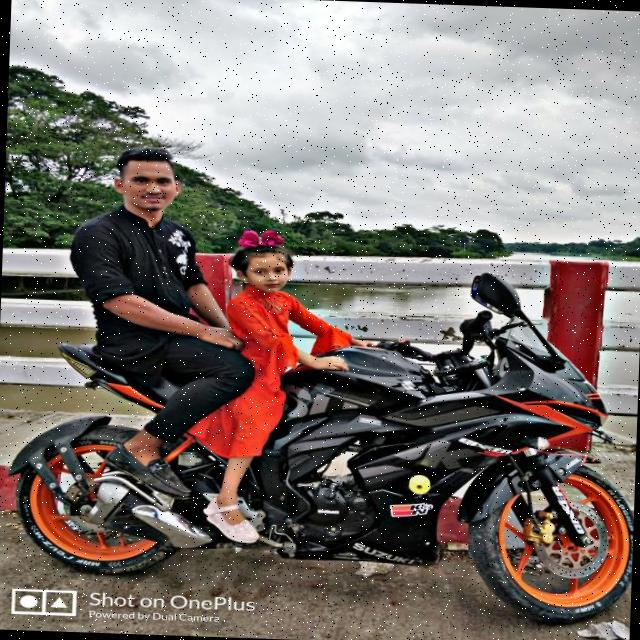No helmet: (104, 143, 194, 229)
